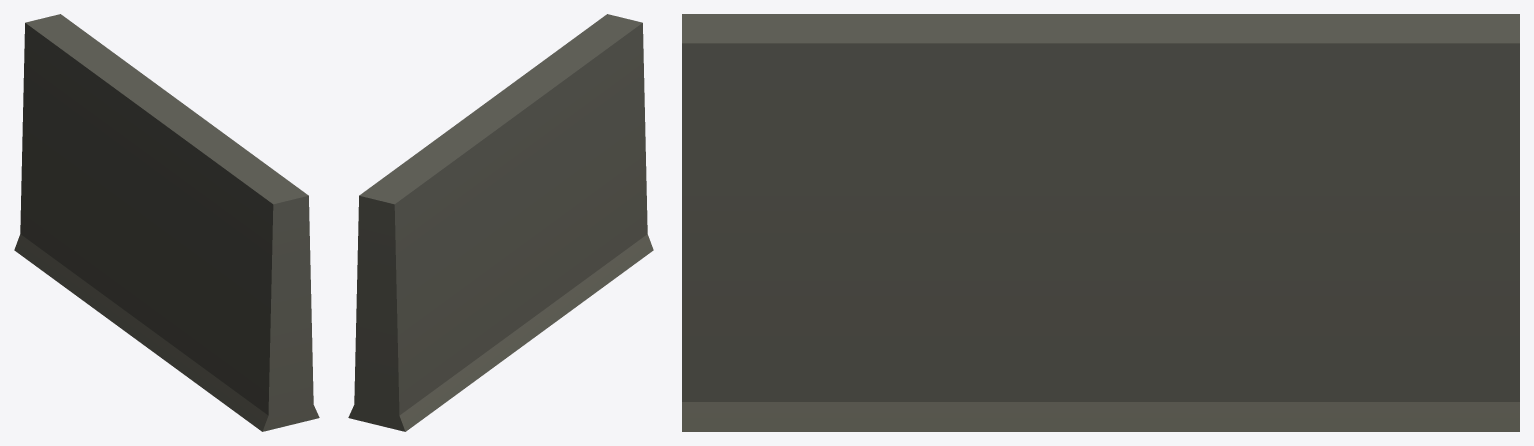
Rendered from RoadPart_03.fbx.
3 views of the same model, side by side, from view 1: azimuth 30°, elevation 25°; view 2: azimuth 150°, elevation 25°; view 3: azimuth 270°, elevation 25° (orthographic). The views are drawn at different scales.
Parts seen in each view (by area): view 1: RoadPart_03; view 2: RoadPart_03; view 3: RoadPart_03.
Part boxes in pixels (x1,y1,x2,y2): RoadPart_03: (14,14,319,431); RoadPart_03: (348,14,653,431); RoadPart_03: (682,14,1519,431).
Bounding box in the file's own units: 0.4 × 1.5 × 3.
